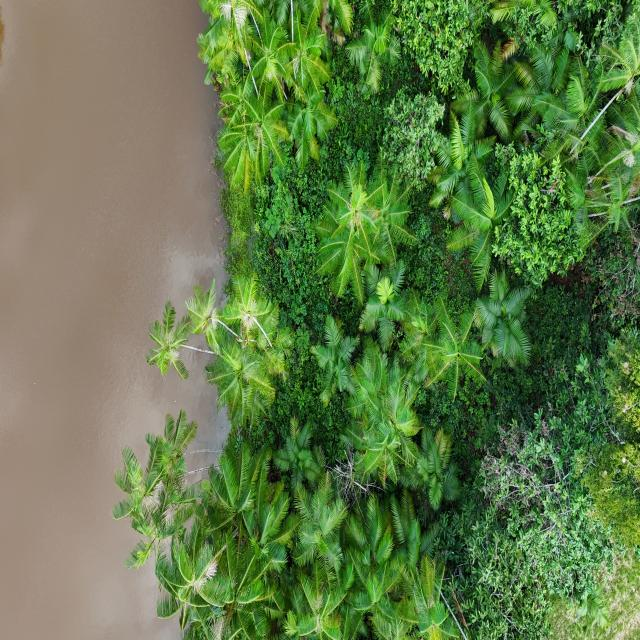vegetation: (111, 1, 638, 638)
